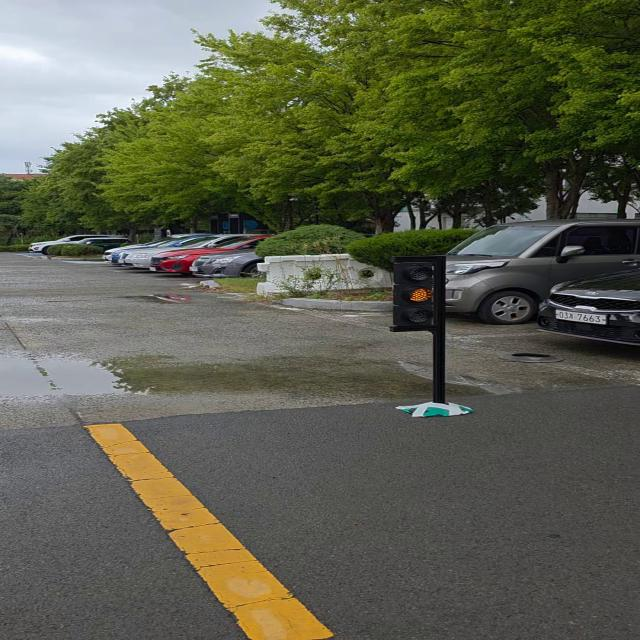yellow: (395, 252, 446, 332)
